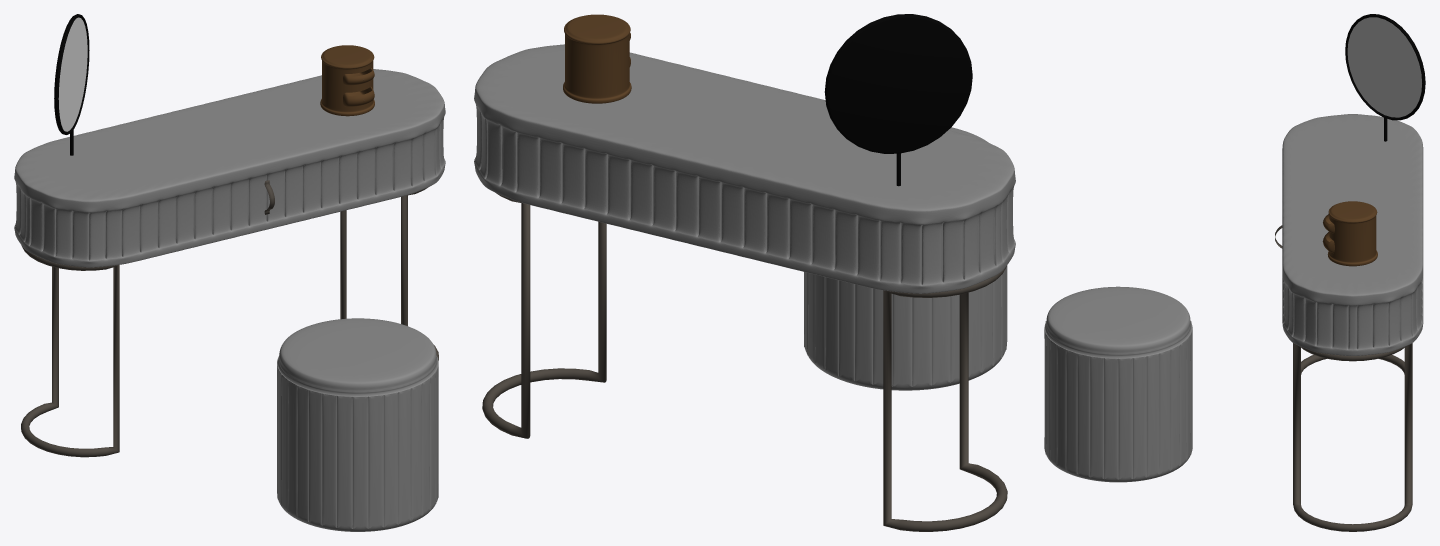
Rendered from Furniture_No-23.glb.
3 views of the same model, side by side, from view 1: azimuth 30°, elevation 25°; view 2: azimuth 150°, elevation 25°; view 3: azimuth 270°, elevation 25° (orthographic). The views are drawn at different scales.
Parts seen in each view (by area): view 1: main desk, sittign coushion, Mirror, make up box, drawer; view 2: main desk, sittign coushion, Mirror, make up box; view 3: main desk, sittign coushion, Mirror, make up box.
Part boxes in pixels (left/top/right/bottom): main desk: left=14, top=69, right=445, bottom=457; sittign coushion: left=277, top=318, right=438, bottom=531; Mirror: left=54, top=14, right=89, bottom=155; make up box: left=320, top=45, right=374, bottom=116; drawer: left=343, top=68, right=374, bottom=106; main desk: left=474, top=44, right=1015, bottom=531; sittign coushion: left=804, top=127, right=1007, bottom=390; Mirror: left=824, top=14, right=972, bottom=186; make up box: left=563, top=14, right=631, bottom=103; main desk: left=1275, top=114, right=1423, bottom=531; sittign coushion: left=1044, top=286, right=1192, bottom=482; Mirror: left=1345, top=14, right=1425, bottom=141; make up box: left=1327, top=201, right=1377, bottom=266.
Size of the model in its own units: 2.76 by 2.69 by 2.44.
